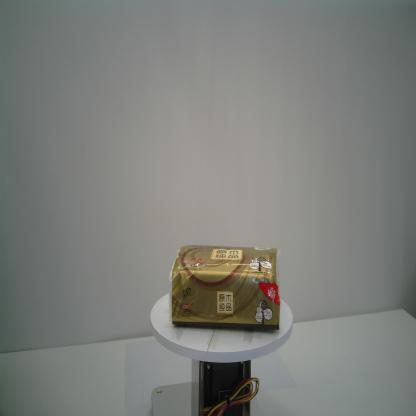Tissue: (168, 245, 280, 330)
